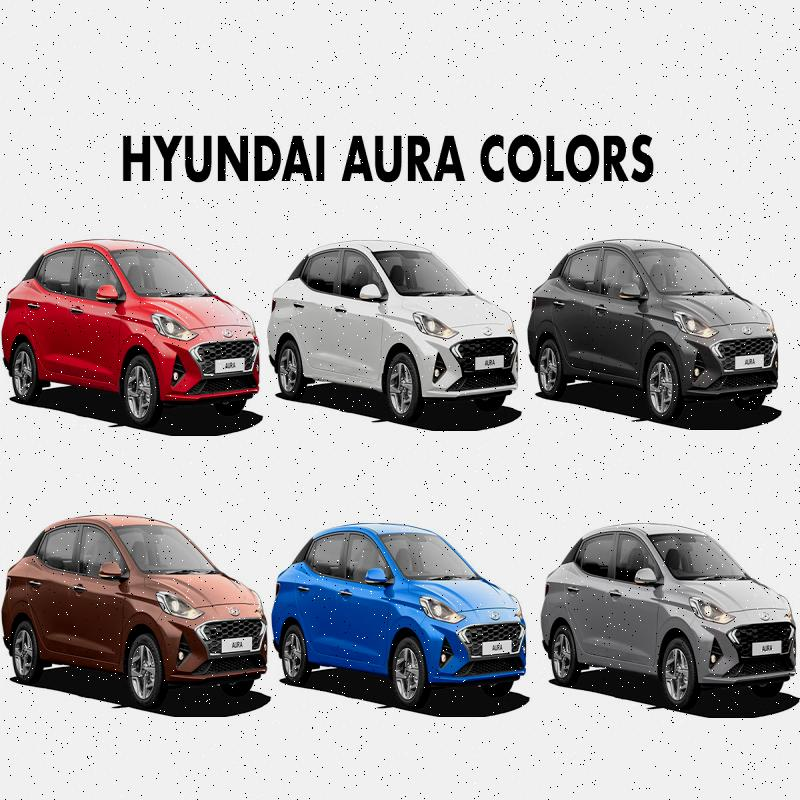car: (3, 484, 265, 708), (532, 230, 787, 446), (280, 503, 519, 728), (8, 212, 246, 418), (552, 525, 788, 707), (292, 228, 527, 410)
